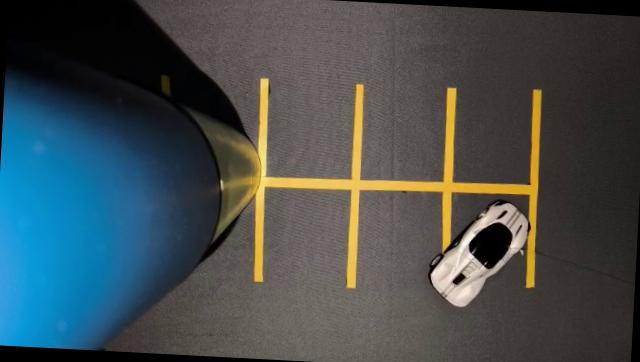toy_car: (416, 174, 537, 342)
